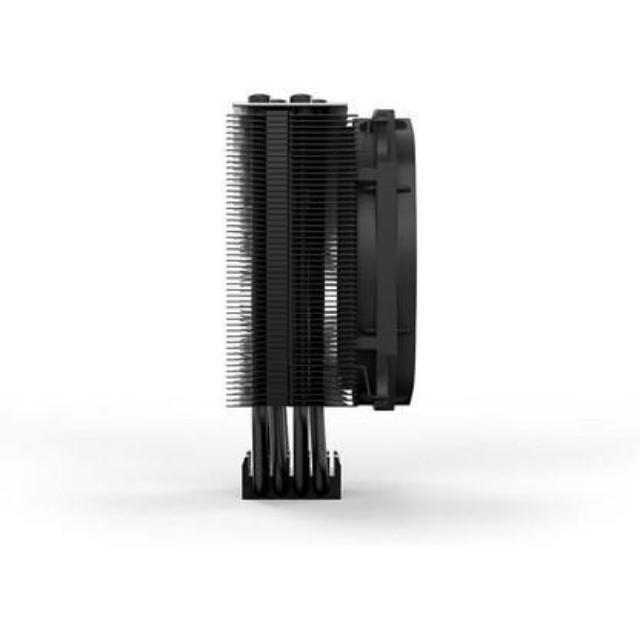CPU_Fan: (223, 96, 417, 498)
